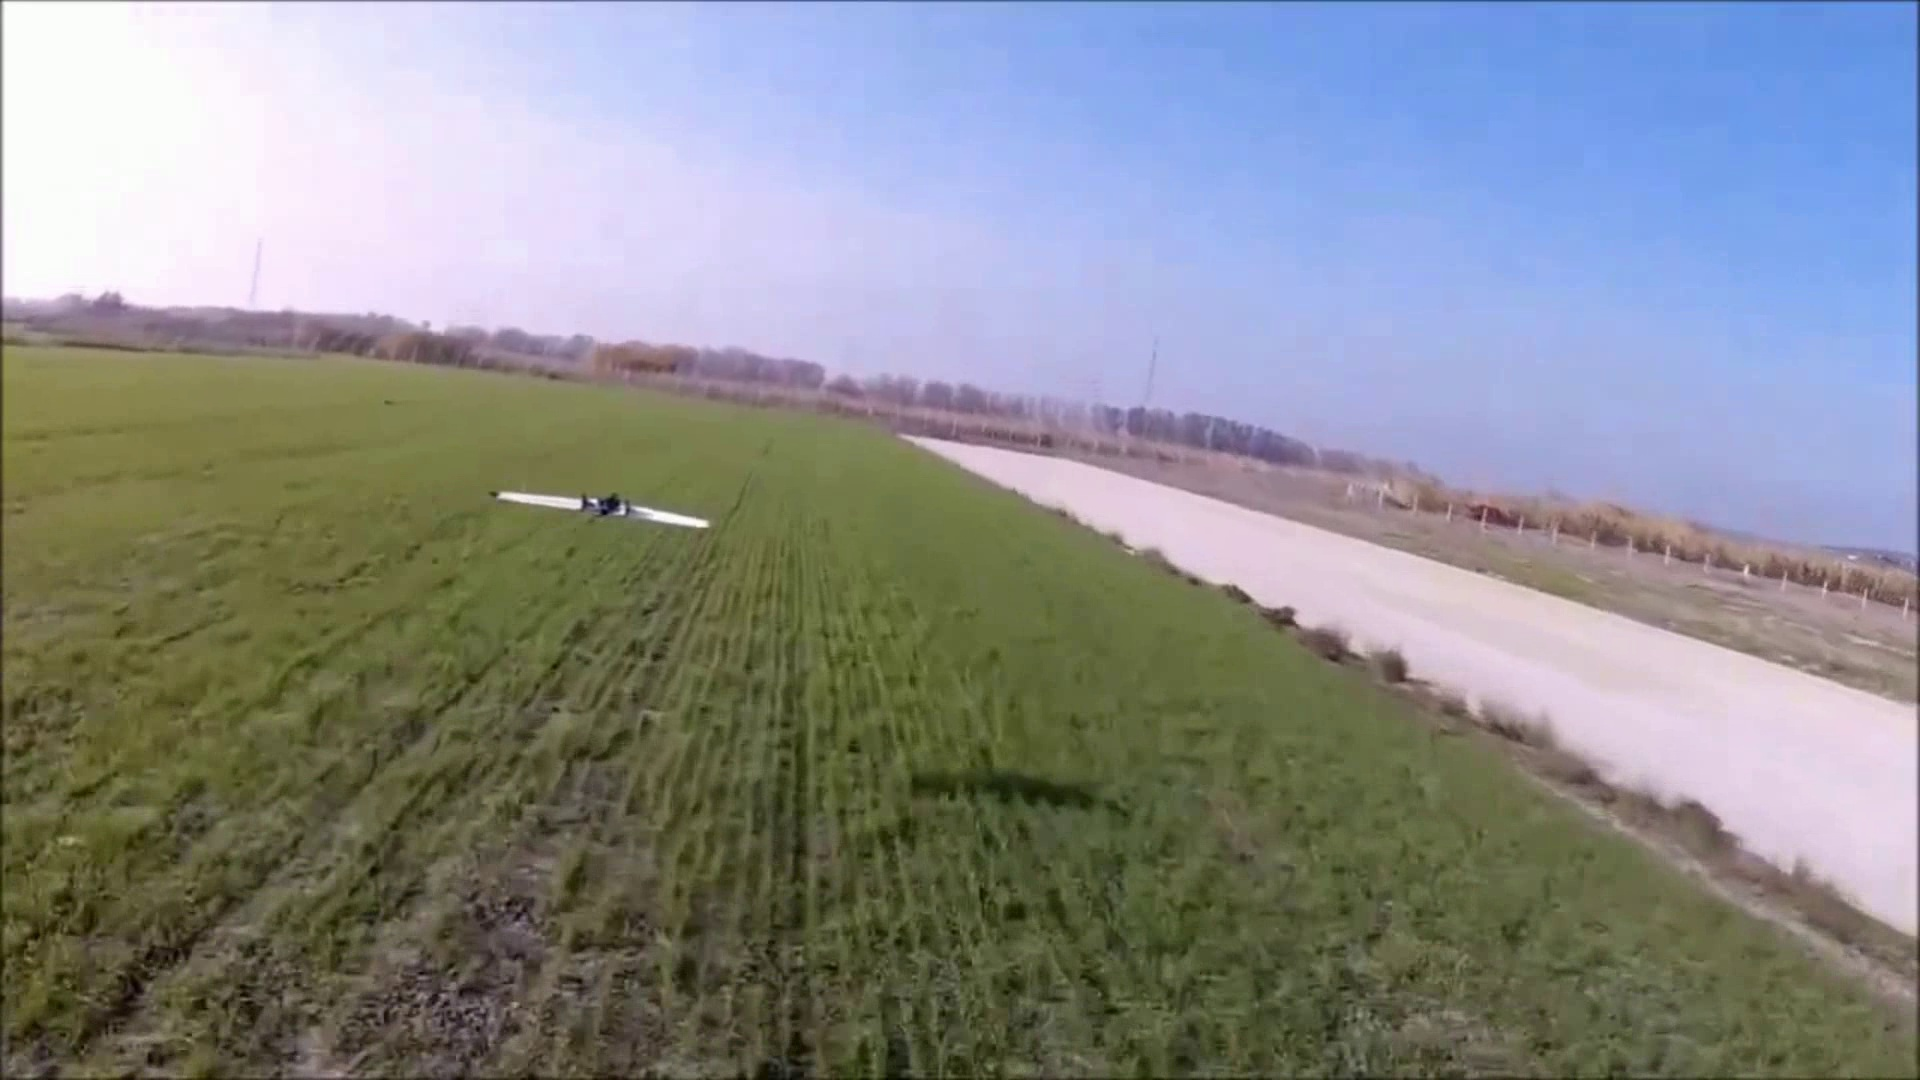airplane: (491, 485, 709, 533)
